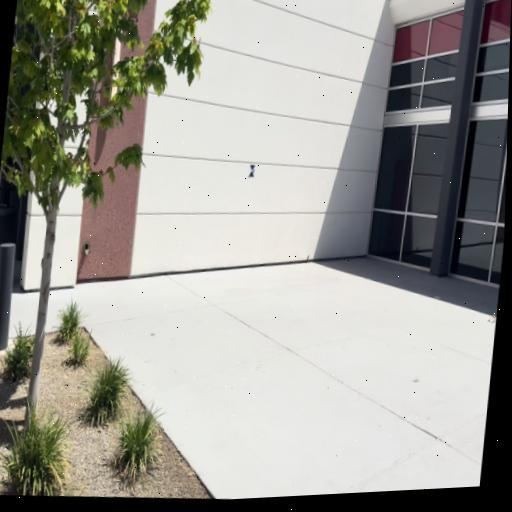target0: (248, 164, 256, 177)
